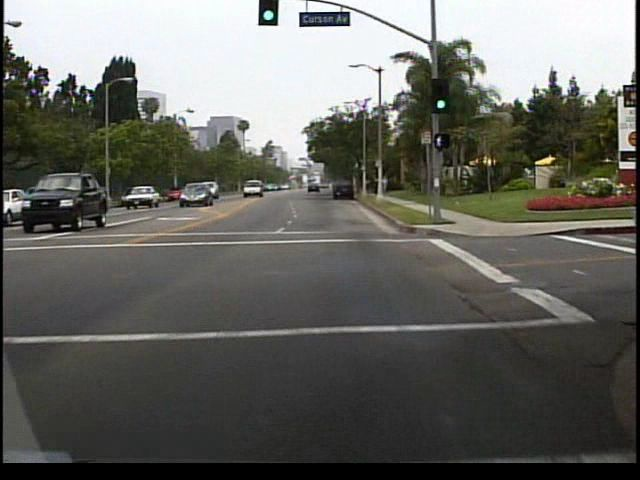person: (373, 176, 382, 200), (382, 173, 391, 195)
